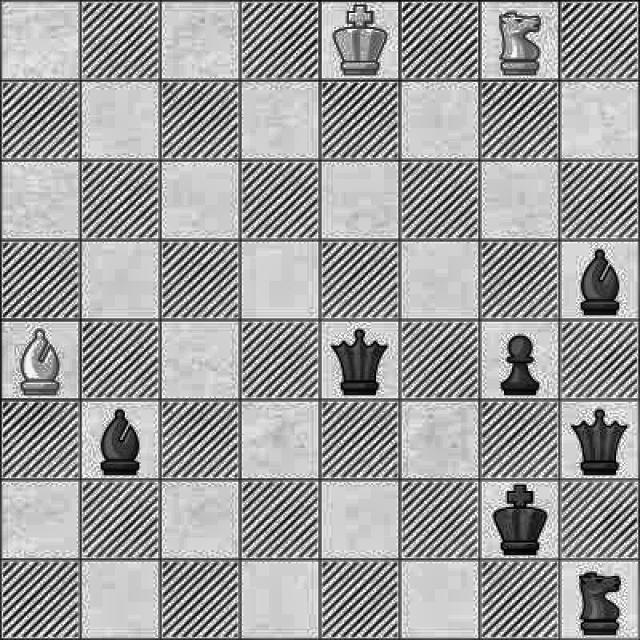Black Knight: (562, 565, 631, 640)
black bishop: (574, 246, 629, 322), (91, 403, 144, 475)
black king: (489, 478, 557, 559)
black pawn: (489, 339, 552, 400)
black queen: (565, 400, 633, 480), (328, 322, 386, 397)
white bishop: (7, 324, 75, 398)
white king: (330, 1, 388, 79), (490, 8, 548, 80)
